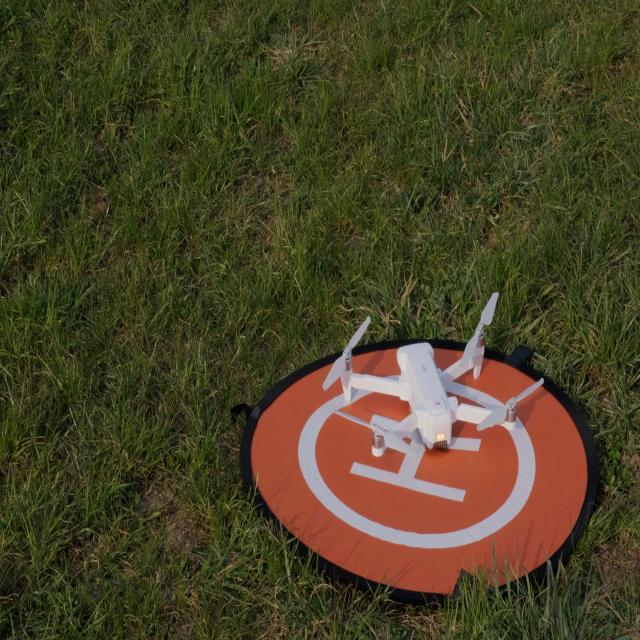drone: (322, 290, 544, 460)
